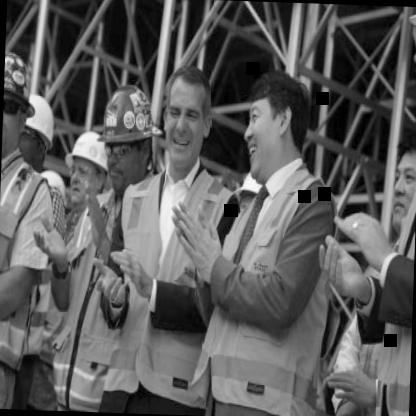head: (238, 68, 310, 176), (159, 58, 217, 166), (382, 127, 416, 233)
helmet: (96, 78, 157, 194), (68, 130, 108, 212), (2, 63, 35, 160), (18, 96, 55, 168), (406, 7, 416, 120)
